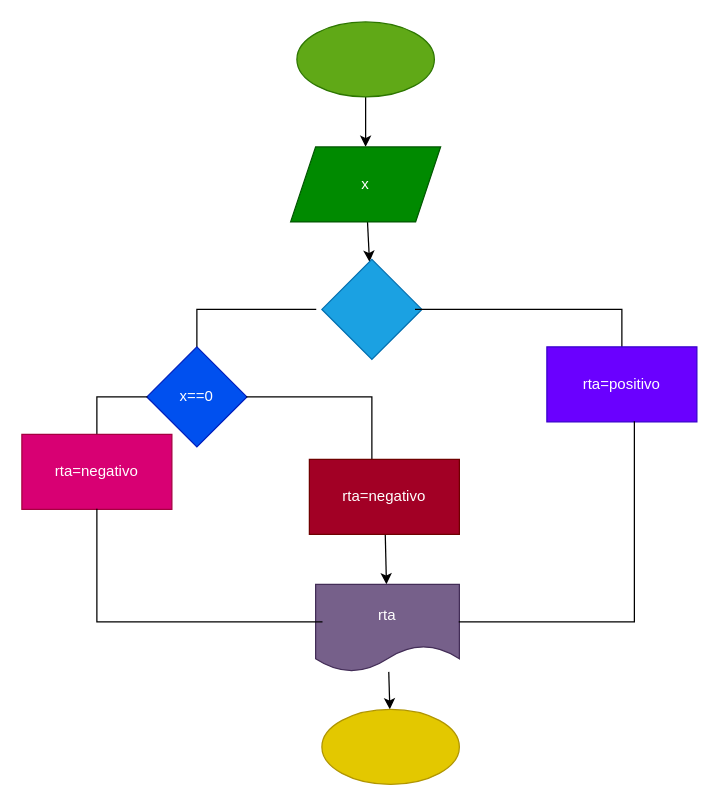
Image size: 719x806. Some labels were removed from this diagram. The centre of each missing label's shape, as x and y in pixels:
fin: point (390, 746)
inicio: point (365, 59)
x>0: point (371, 308)
